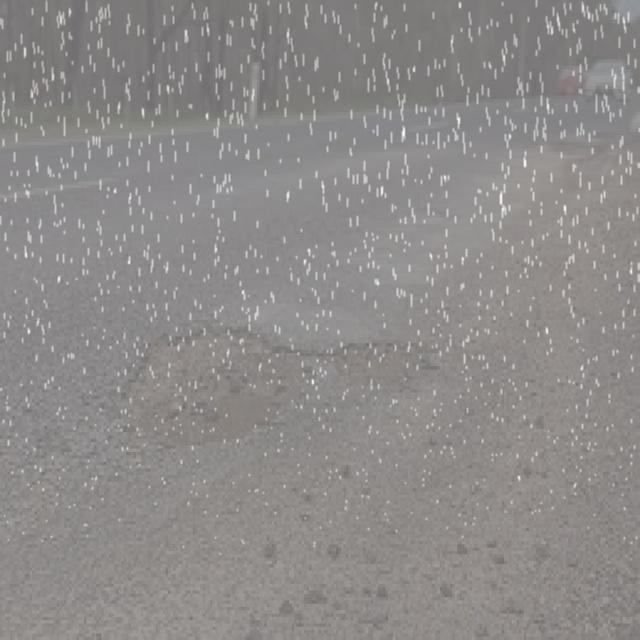Pothole: (104, 305, 456, 469)
